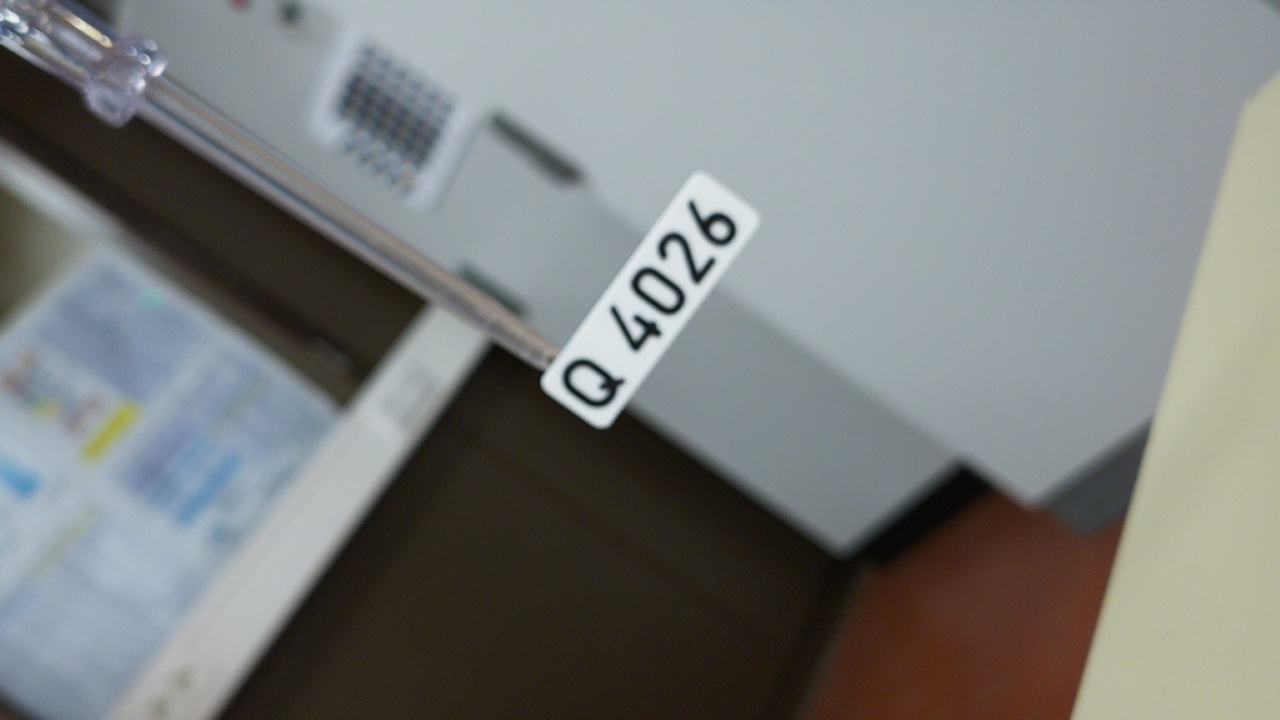license_plate: (537, 166, 764, 432)
